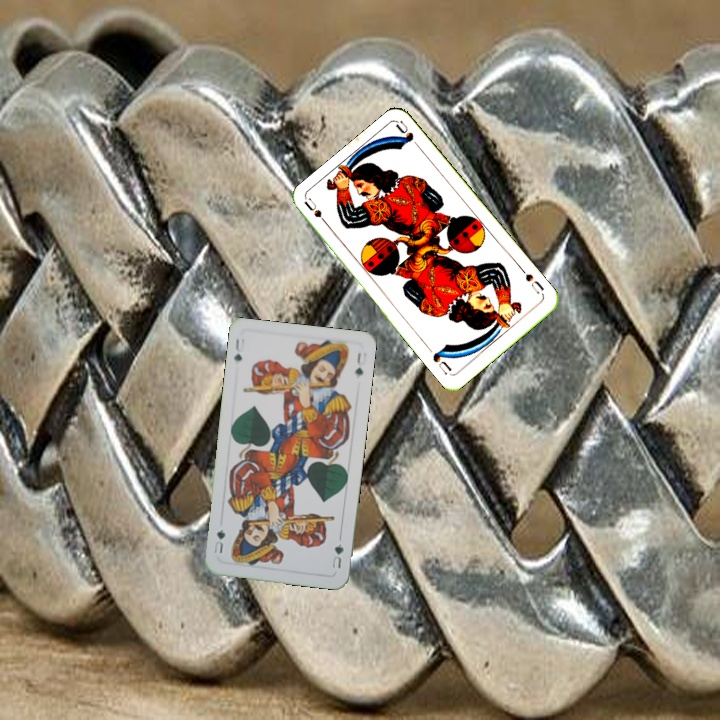GU: (328, 539, 346, 571), (230, 334, 247, 364)
SU: (300, 195, 333, 231), (516, 264, 547, 297)
